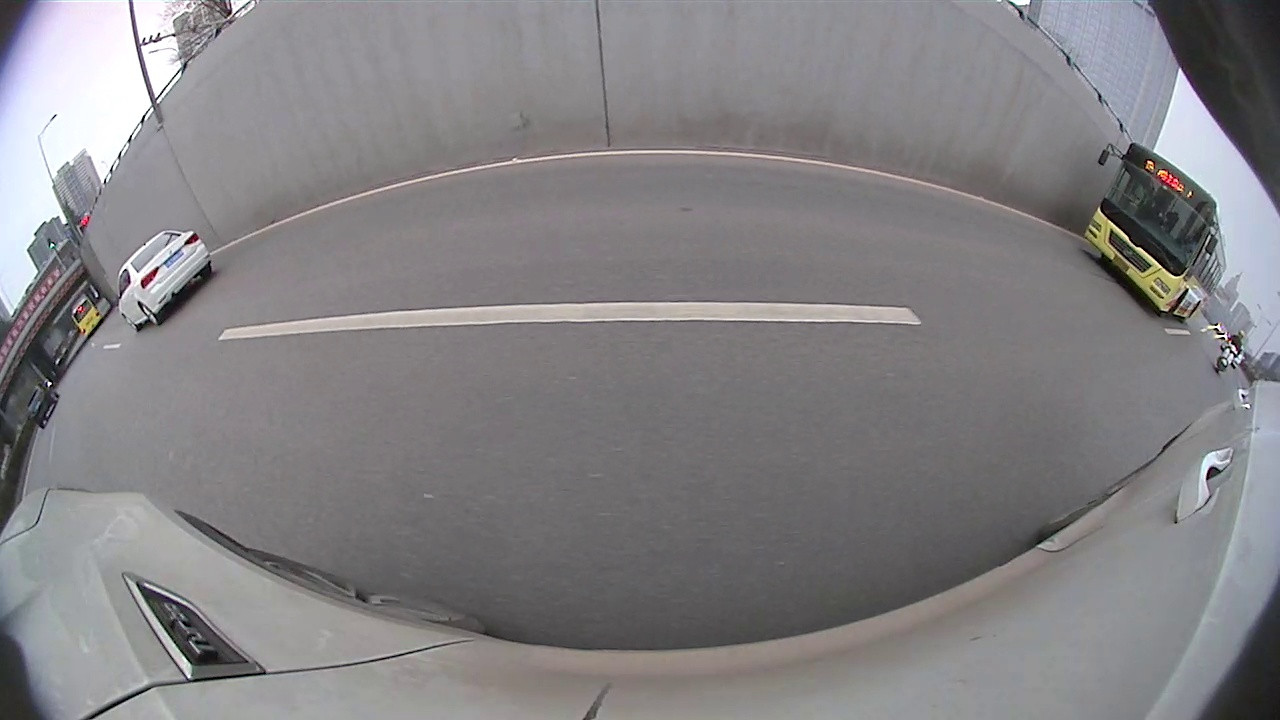bus: (926, 114, 1279, 375), (2, 237, 153, 351)
car: (367, 124, 548, 254), (101, 243, 250, 319), (2, 343, 66, 416), (519, 150, 570, 193), (598, 153, 622, 190)
front: (986, 208, 1027, 257), (531, 182, 545, 214)
rear: (655, 153, 708, 228), (487, 192, 508, 237)
truck: (593, 2, 970, 230)
